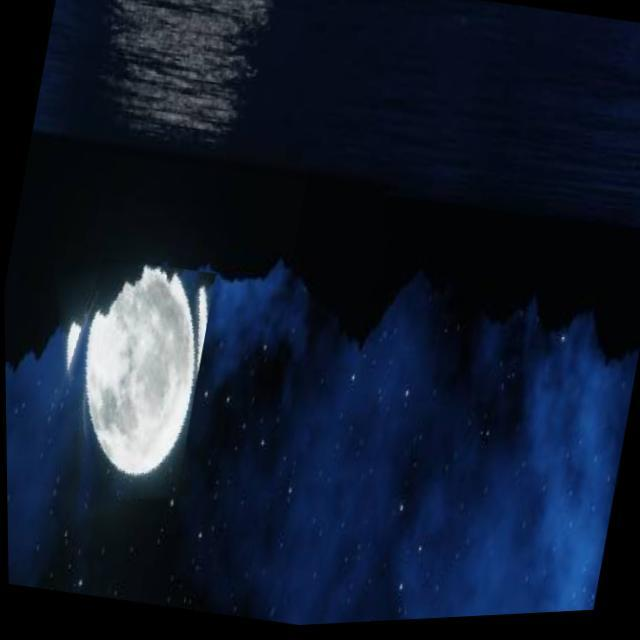moon: (26, 248, 218, 526)
